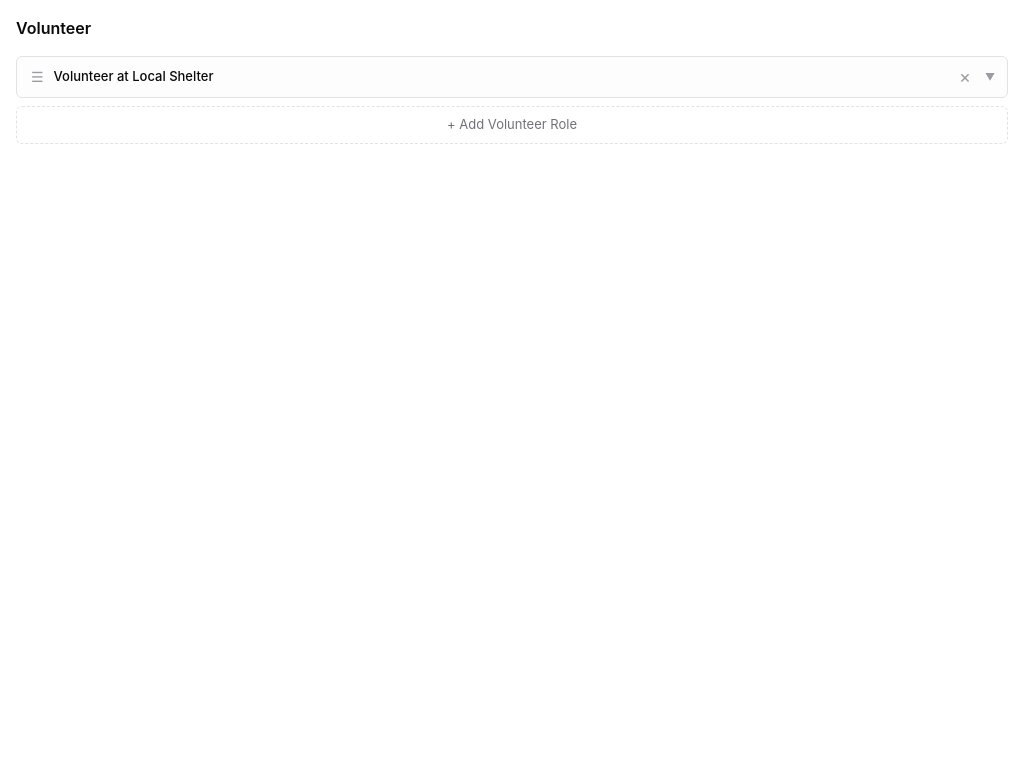
Test: VolunteerEditor › current role toggle › shows the "Current role" checkbox as checked when isCurrent is "true"
Click the button "☰ Volunteer at Local Shelter × ▼" at (133, 76), box [17, 57, 1007, 97]
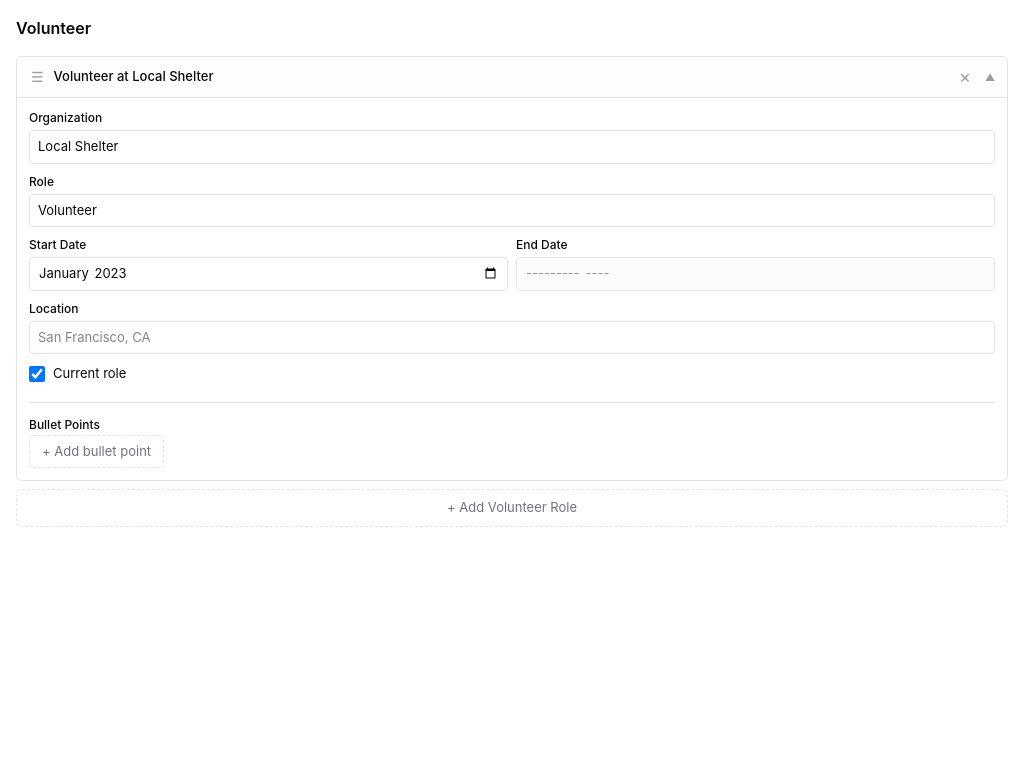
Now the checkbox labelled "Current role" is checked, box [29, 366, 45, 382]
Now the field below "End Date" is disabled, box [516, 257, 995, 290]
